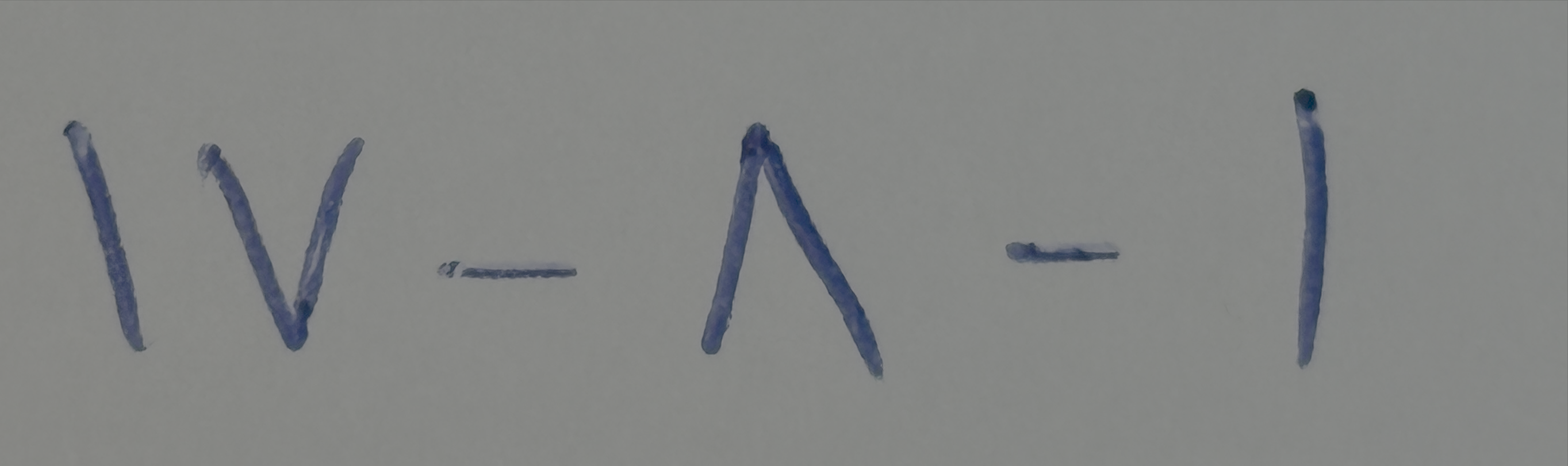character: (700, 122, 886, 381), (197, 137, 366, 351), (62, 119, 148, 351), (1291, 88, 1329, 369), (434, 261, 578, 282), (1004, 240, 1119, 265)
